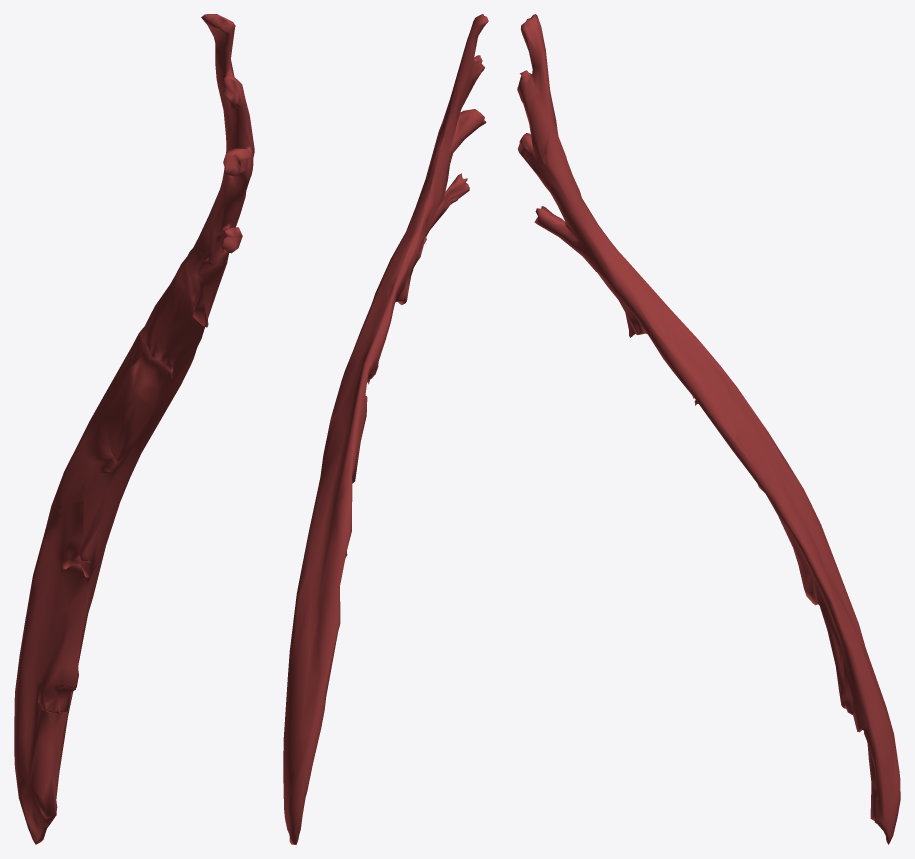
The model's file is longissimus-colli-muscle-l.glb.
3 renders of one model, left to right at view 1: azimuth 30°, elevation 25°; view 2: azimuth 150°, elevation 25°; view 3: azimuth 270°, elevation 25°, orthographic. The views are drawn at different scales.
Visible parts, largest first — view 1: Longissimus colli muscle.l; view 2: Longissimus colli muscle.l; view 3: Longissimus colli muscle.l.
Part boxes in pixels (x1,y1,x2,y2): Longissimus colli muscle.l: (14, 14, 254, 844); Longissimus colli muscle.l: (283, 14, 488, 844); Longissimus colli muscle.l: (517, 14, 900, 844).
Bounding box in the file's own units: 0.0191 × 0.1894 × 0.0812.
